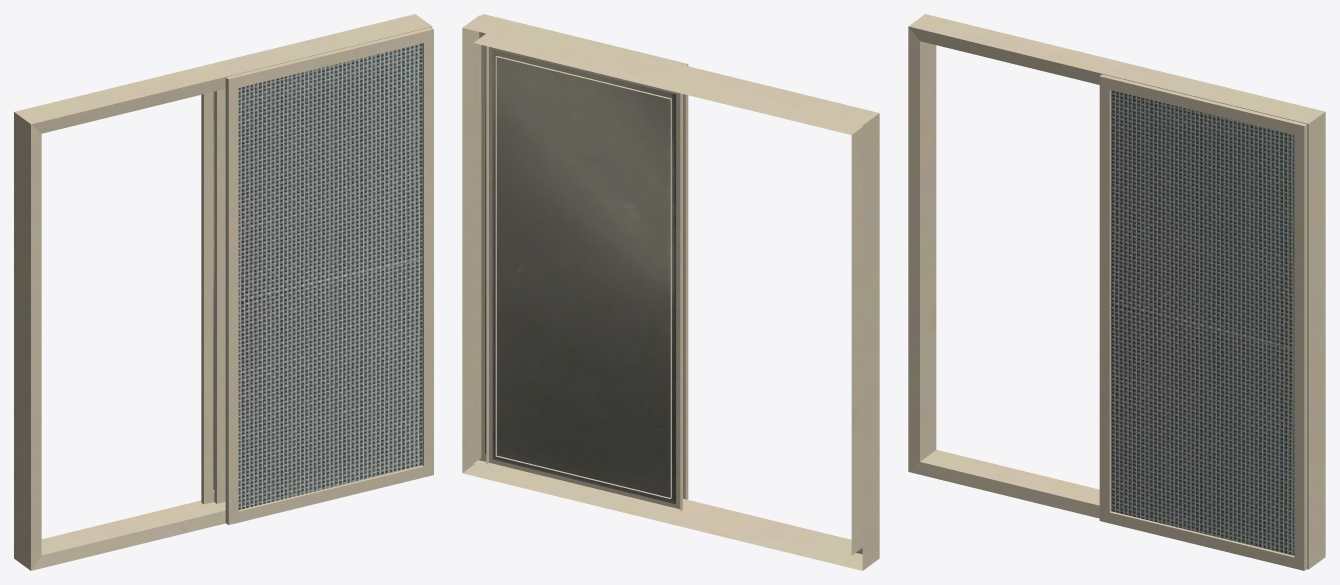
Rendered from Window_0.75m_003.fbx.
The picture shows the model from 3 angles, left to right: view 1: azimuth 30°, elevation 25°; view 2: azimuth 150°, elevation 25°; view 3: azimuth 330°, elevation 25°; orthographic projection.
Parts seen in each view (by area): view 1: Window_0.75m_003; view 2: Window_0.75m_003; view 3: Window_0.75m_003.
Part boxes in pixels (x1,y1,x2,y2): Window_0.75m_003: [14, 14, 433, 570]; Window_0.75m_003: [462, 14, 879, 570]; Window_0.75m_003: [908, 14, 1325, 570].
Bounding box in the file's own units: 70.52 × 75 × 6.09.
Materials: 1 (1 with a texture image).
